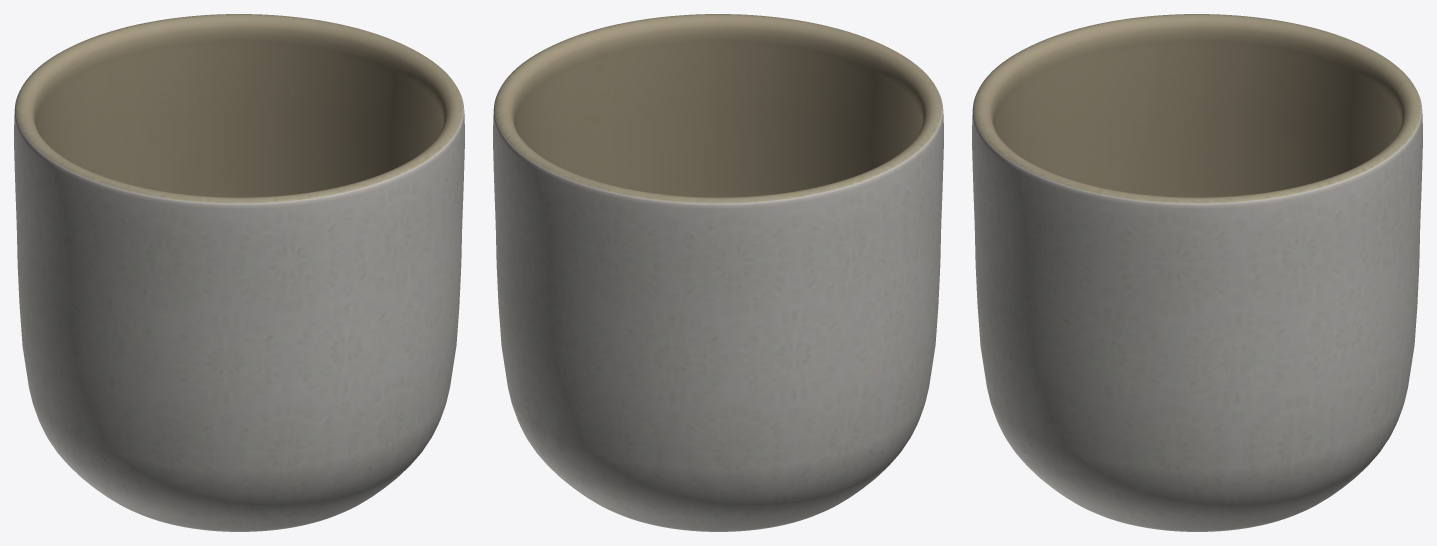
The model's file is abo-B083YFSQ1Y.glb.
The picture shows the model from 3 angles, left to right: view 1: azimuth 30°, elevation 25°; view 2: azimuth 150°, elevation 25°; view 3: azimuth 270°, elevation 25°; orthographic projection.
Size of the model in its own units: 0.208 by 0.19 by 0.208.
Materials: 1 (1 with a texture image).
